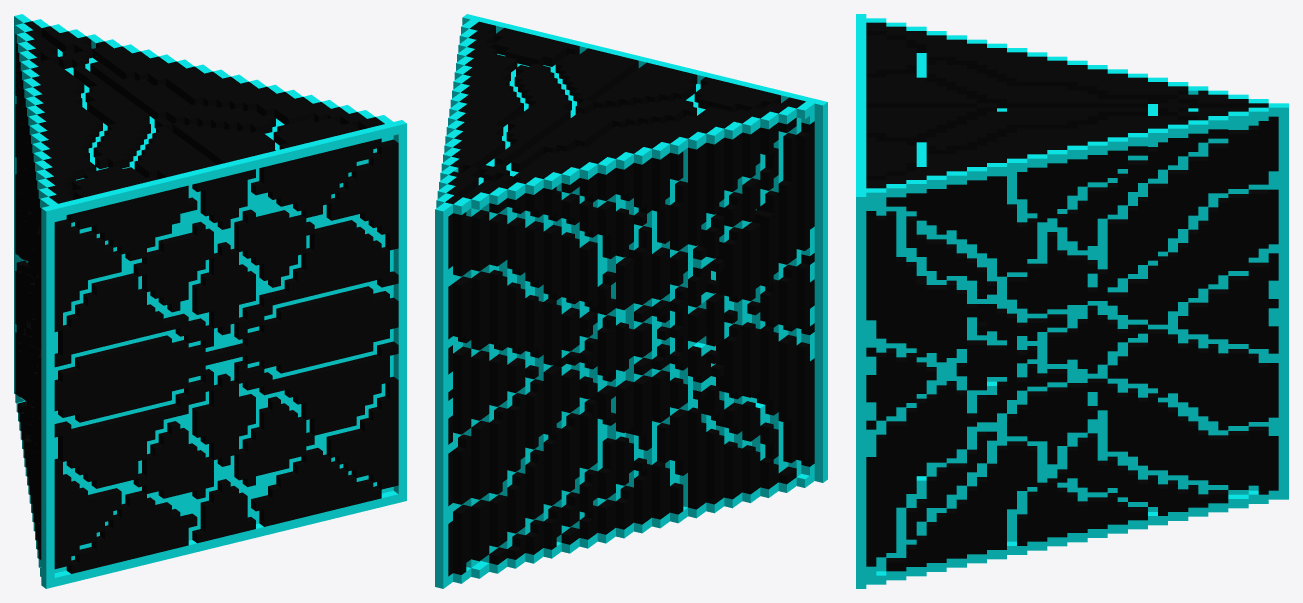
File: TriangleHull.FBX
3 renders of one model, left to right at view 1: azimuth 30°, elevation 25°; view 2: azimuth 150°, elevation 25°; view 3: azimuth 270°, elevation 25°, orthographic. The views are drawn at different scales.
Visible parts, largest first — view 1: default; view 2: default; view 3: default.
Part boxes in pixels (<box>): default: <box>14,14,406,588</box>; default: <box>435,14,827,588</box>; default: <box>856,14,1288,588</box>.
Bounding box in the file's own units: 43 × 43 × 43.
